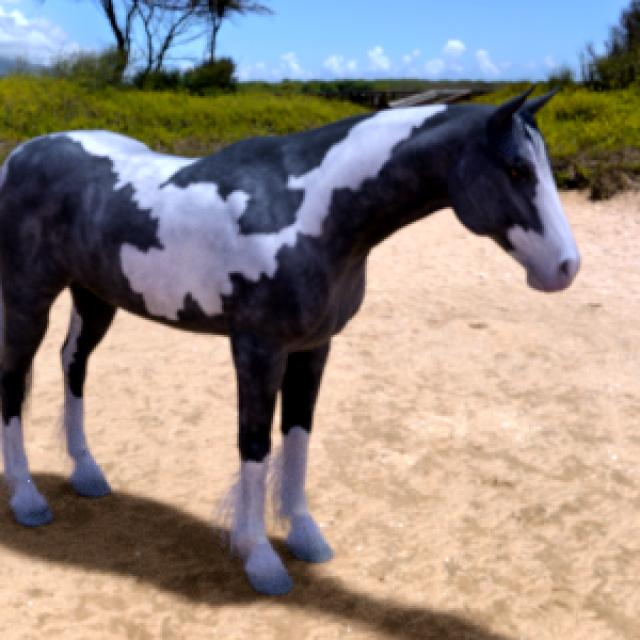horse: (0, 95, 579, 594)
